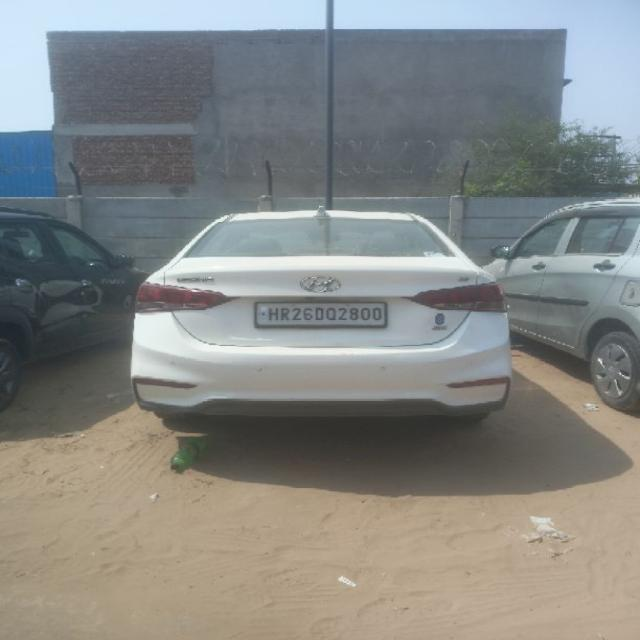license_plate: (253, 300, 388, 328)
